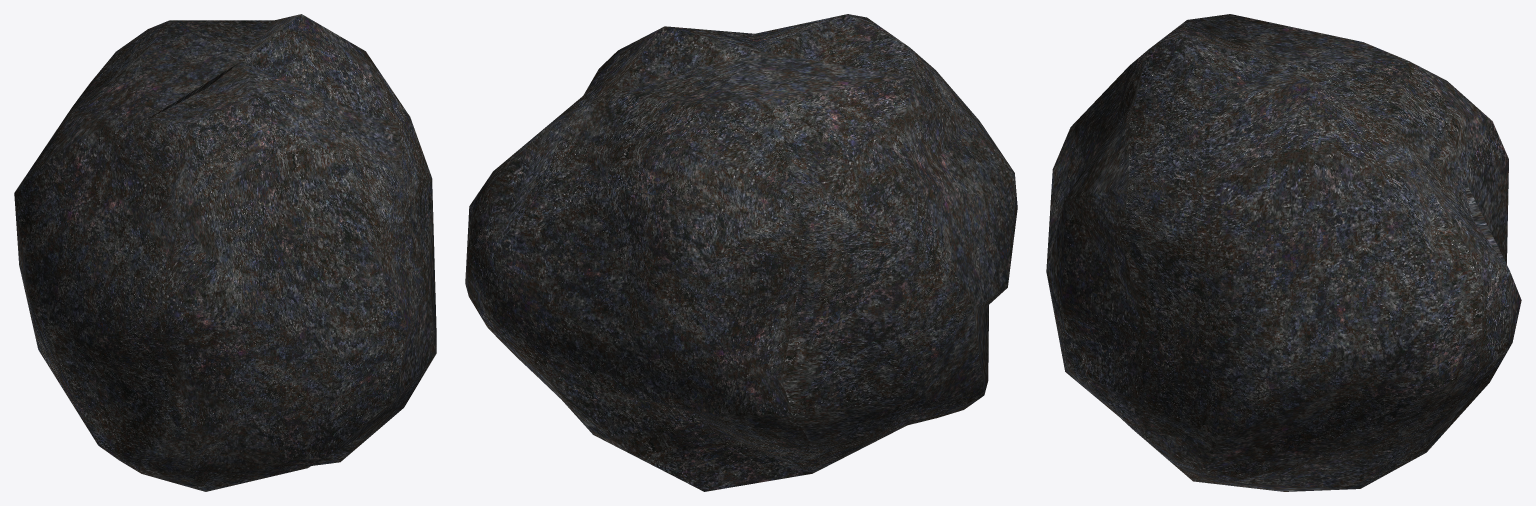
The model's file is asteroid_metal_medium_s01_l1.fbx.
3 renders of one model, left to right at view 1: azimuth 30°, elevation 25°; view 2: azimuth 150°, elevation 25°; view 3: azimuth 270°, elevation 25°, orthographic. The views are drawn at different scales.
Visible parts, largest first — view 1: mesh_node; view 2: mesh_node; view 3: mesh_node.
Boxes of the visible parts, left/top/right/bottom form: mesh_node: left=14, top=14, right=436, bottom=491; mesh_node: left=465, top=14, right=1017, bottom=491; mesh_node: left=1046, top=14, right=1521, bottom=491.
Size of the model in its own units: 69.8 by 67.51 by 66.55.
